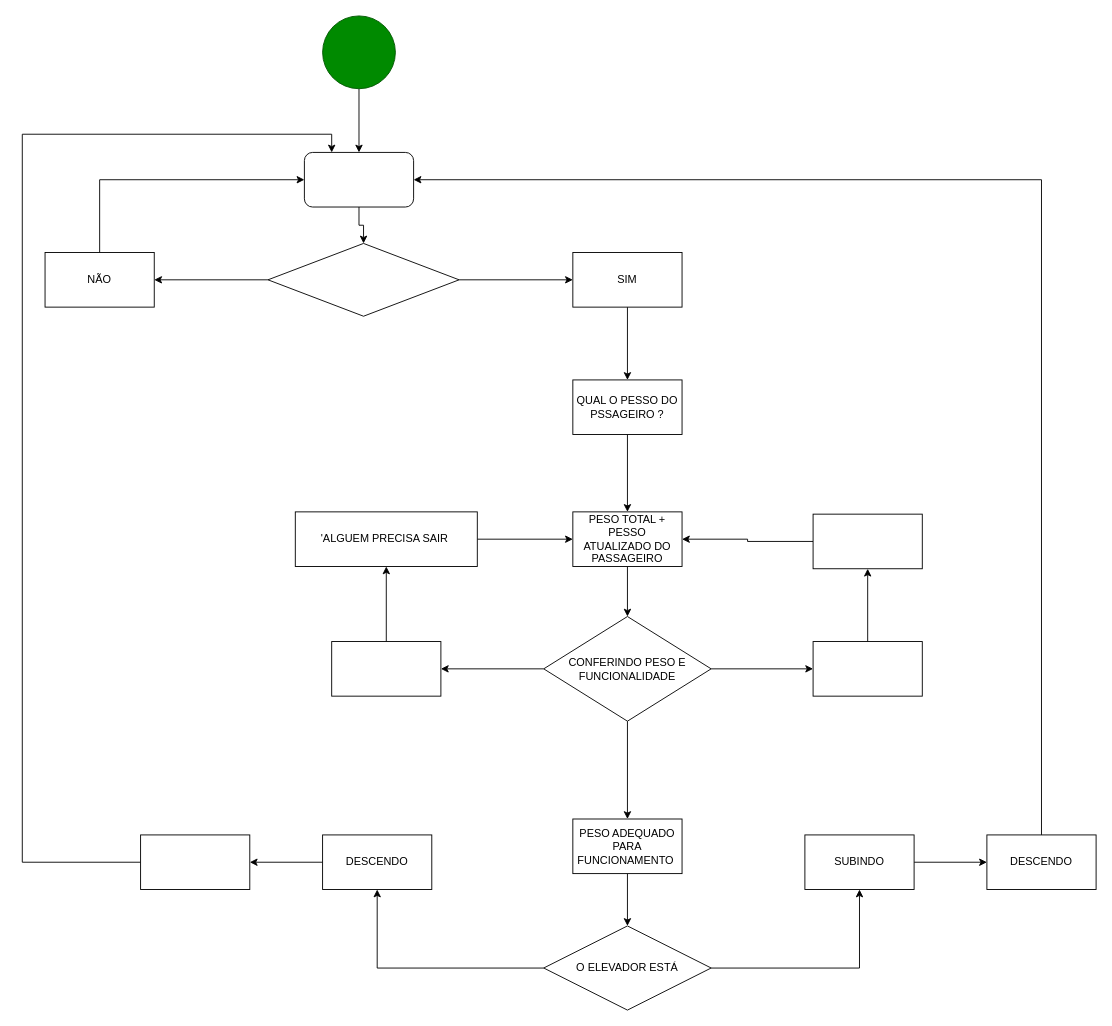
The diagram is 1112 pixels wide and 1026 high, and some of its shapes have lost their labels. Here are the shapes that lost their labels. From the top down, the centre of each, then its label:
point (358, 179): ENTROU PESSOAS NO ELEVADOR ?
point (363, 279): VERIFICAÇÃO
point (867, 541): 'ALGUEM DEVE DESCER para o elevador descer
point (386, 668): SE PESO >=400 KG AND ELEV SUBIR
point (867, 668): SE PESO >= 500 KG AND ELEV DESCER
point (195, 862): DESTINO
